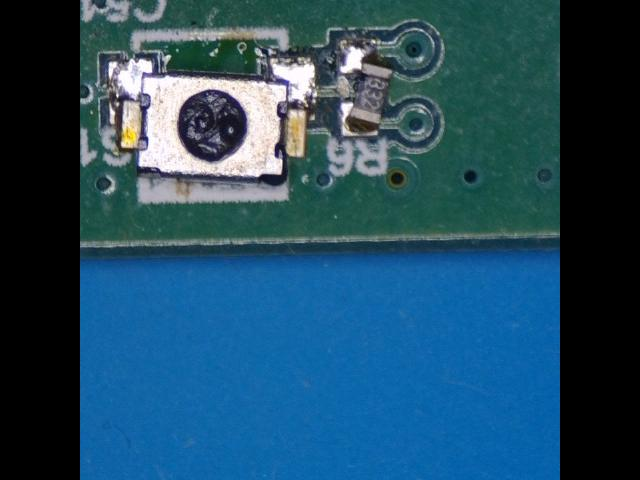Incorrect_installation: (110, 57, 316, 188), (341, 39, 395, 136)
